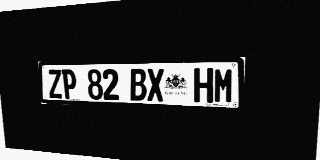2: (102, 69, 119, 100)
8: (87, 69, 103, 100)
B: (129, 69, 147, 101)
H: (194, 68, 213, 103)
M: (214, 68, 234, 103)
P: (61, 69, 77, 99)
X: (147, 68, 164, 101)
Z: (48, 69, 63, 98)
